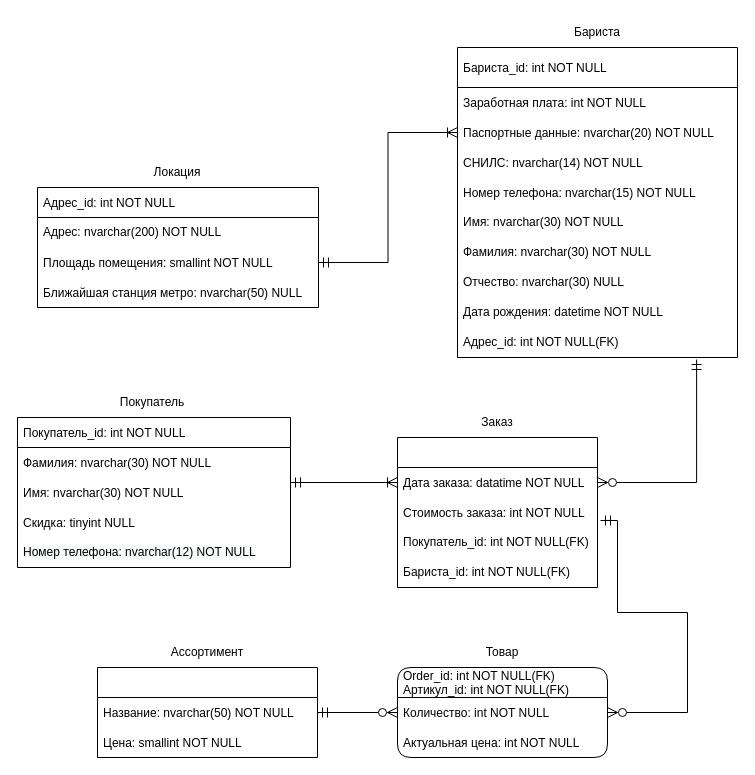
Image size: 755x775. Some labels were removed from this diagram. The box of each missing label's shape, as (x1, y1, x2, y2) in pixels:
Order_id: int NOT NULL: (396, 436, 598, 588)
Артикул_id: int NOT NULL: (96, 666, 318, 758)
